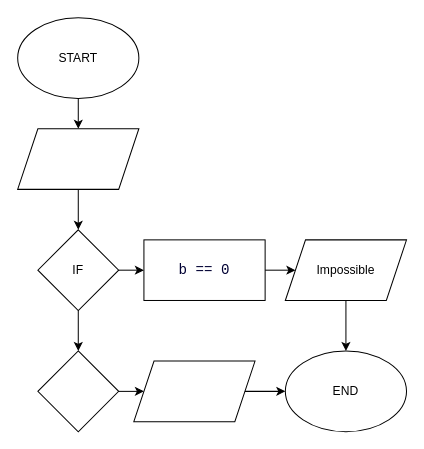
Image size: 424x449. Some labels were removed from this diagram. The shapes that lost their labels are listed below. From the top down, each one's box as (x1, y1, x2, y2) in pixels, then its label:
(17, 128, 139, 189): int a int b
(37, 350, 119, 432): ELSE
(133, 360, 255, 422): a/b
